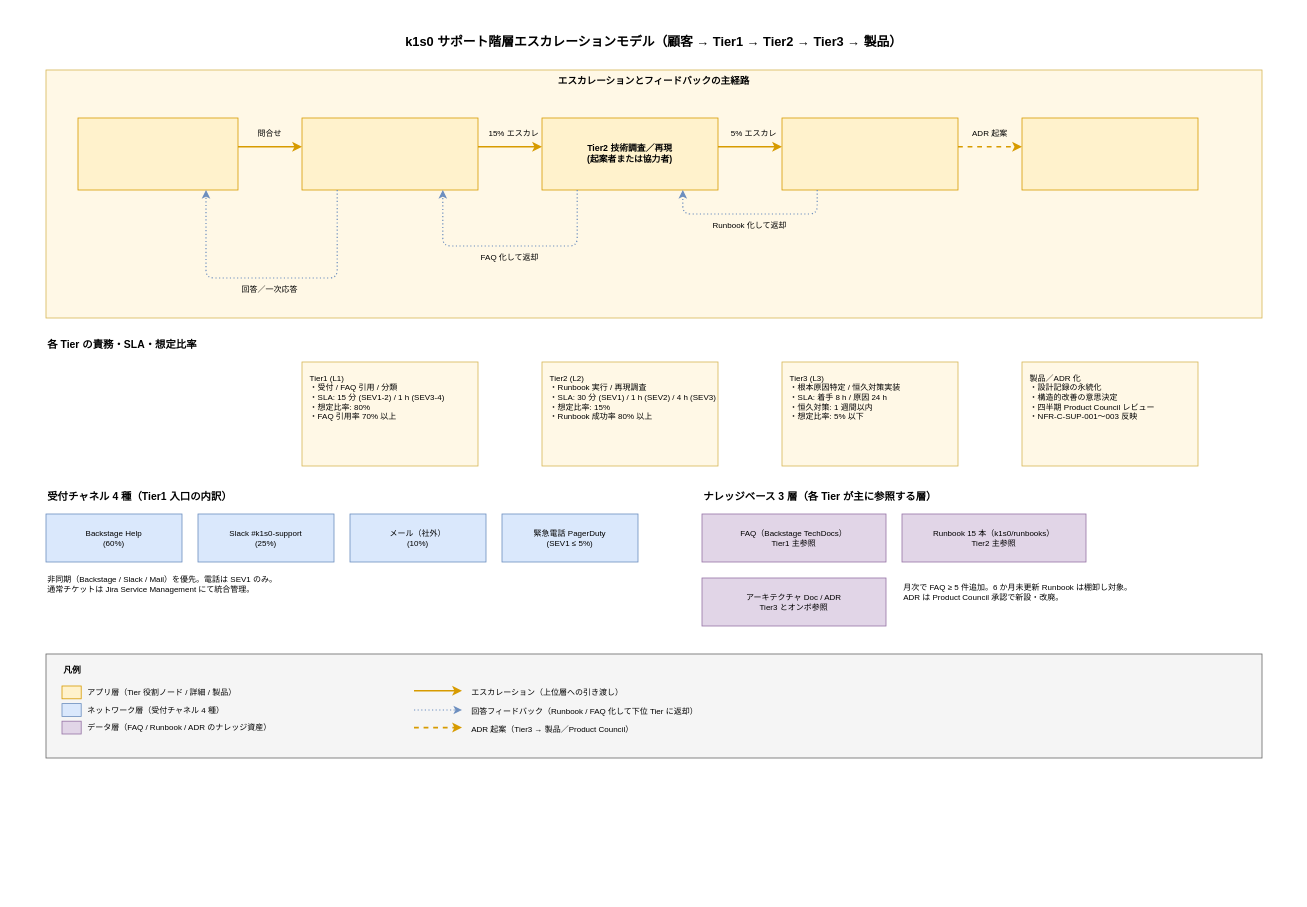
This 1307x907 diagram has some shape labels left out. The centre of each missing label's shape, as x and y in pixels:
Tier1 受付／FAQ 初動 (オンコール当番 1 名): the point at 389,153
Tier3 根本原因／実装 (Rust / Go コア開発者): the point at 869,153
製品／ADR 化 (Product Council): the point at 1109,153
顧客 (tier2/tier3 開発チーム 運用管理者 / 社外テナント): the point at 157,153
